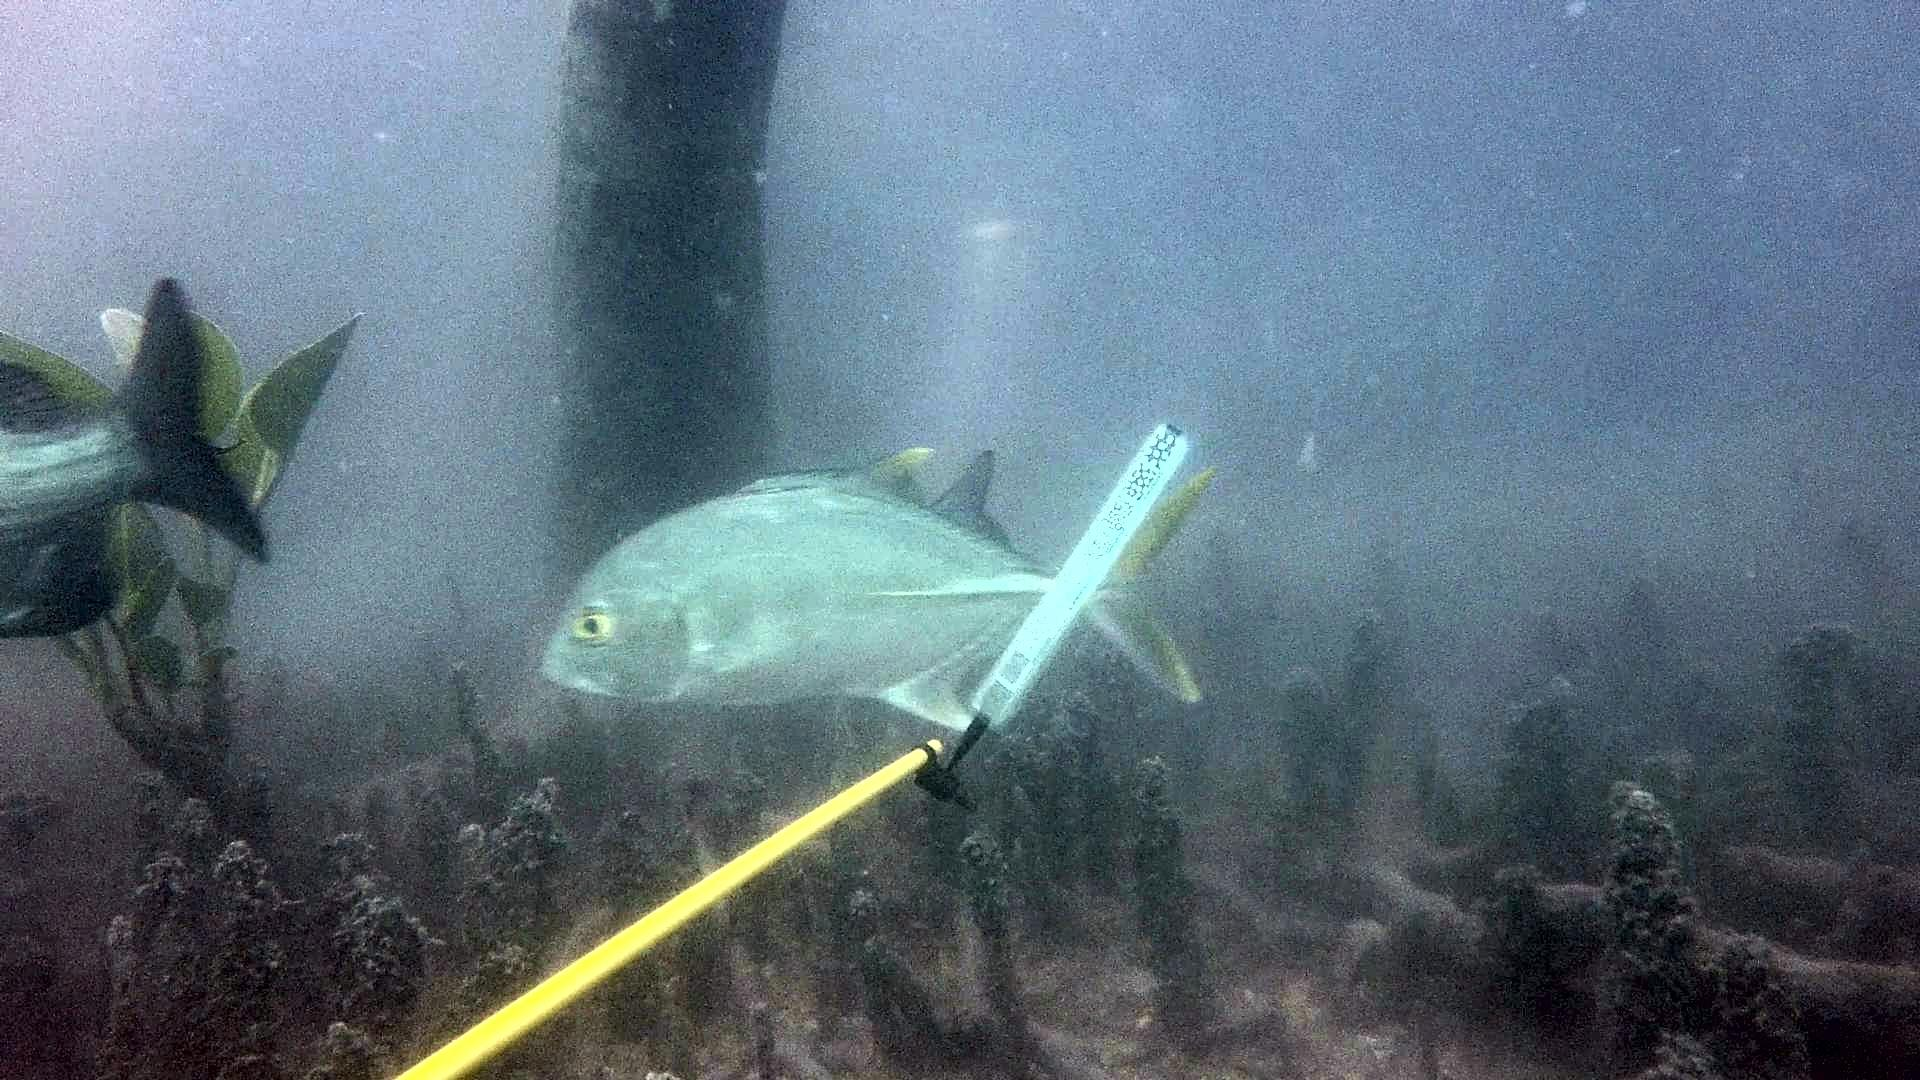acanthopagrus palmaris: (3, 256, 281, 657)
caranx: (533, 440, 1244, 744)
